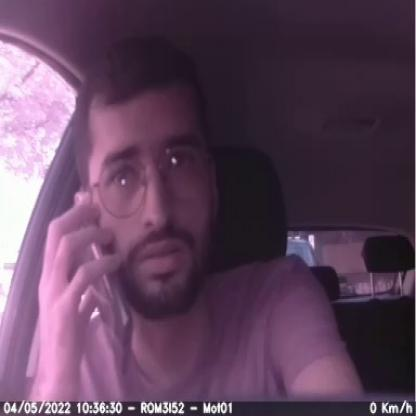phone: (55, 199, 141, 379)
